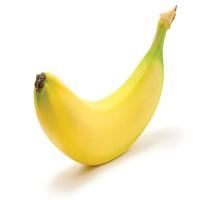banane: (28, 3, 184, 173)
